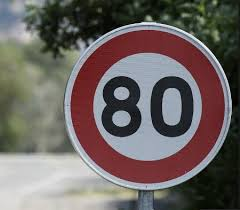Speed_limit_80km: (63, 23, 234, 191)
